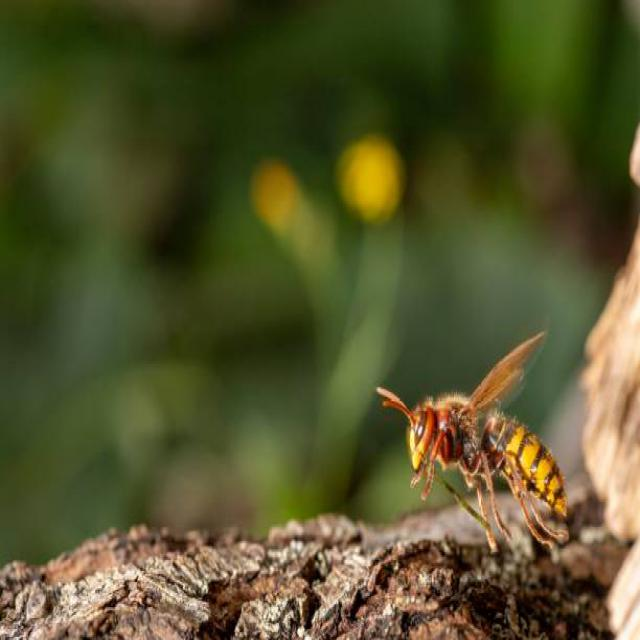Vespa Crabro: (352, 333, 588, 564)
